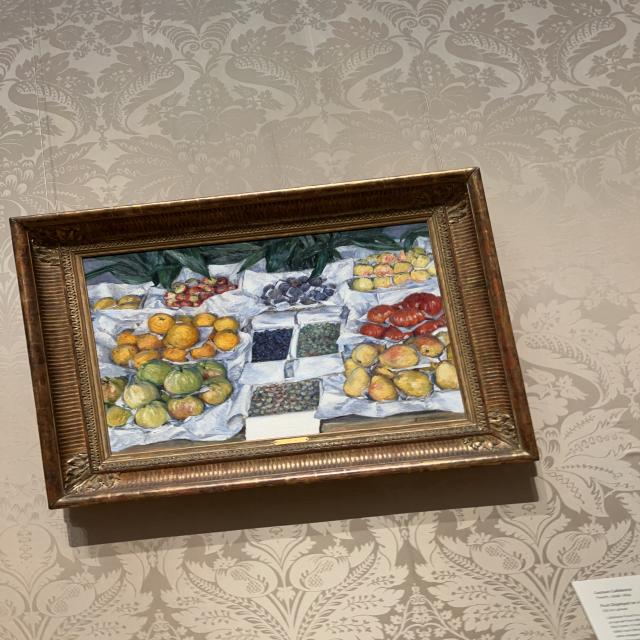fruits: (89, 225, 459, 446)
